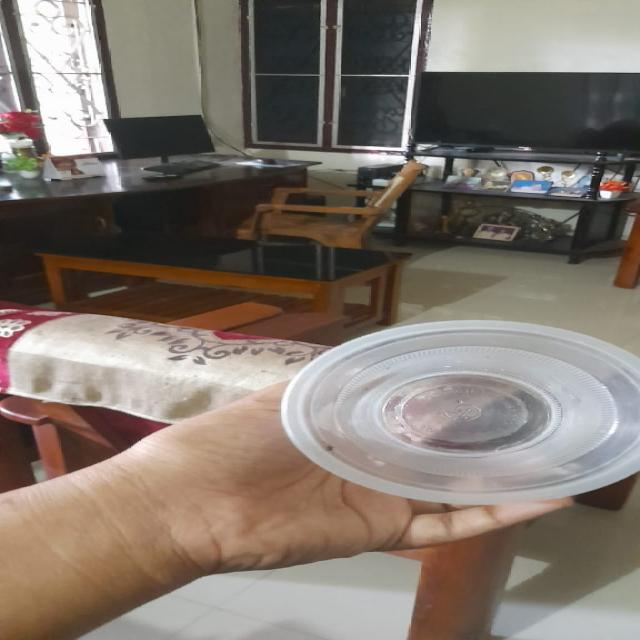Plastic - Recyclable: (278, 319, 638, 505)
